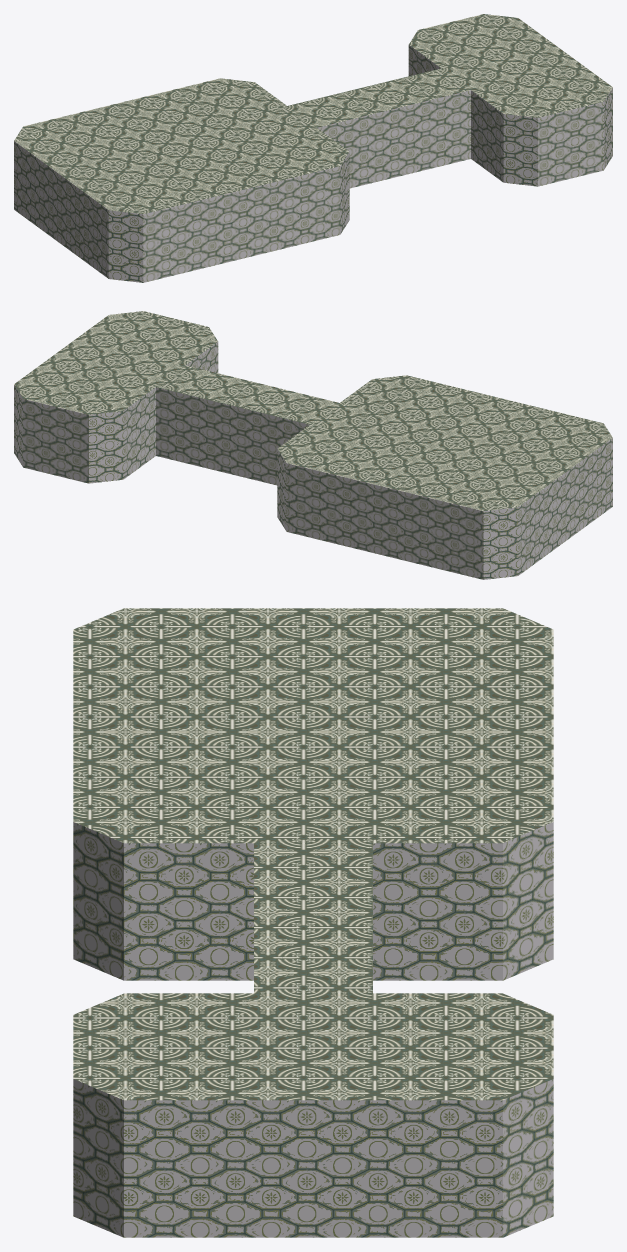
The model's file is testbox_02.gltf.
3 views of the same model, one above another, from view 1: azimuth 30°, elevation 25°; view 2: azimuth 150°, elevation 25°; view 3: azimuth 270°, elevation 25° (orthographic). The views are drawn at different scales.
Visible parts, largest first — view 1: Plane; view 2: Plane; view 3: Plane.
Part boxes in pixels (<box>): Plane: <box>14,14,612,282</box>; Plane: <box>14,311,612,579</box>; Plane: <box>73,608,553,1237</box>.
Size of the model in its own units: 23.03 by 3 by 9.5.
Materials: 4 (4 with a texture image).
